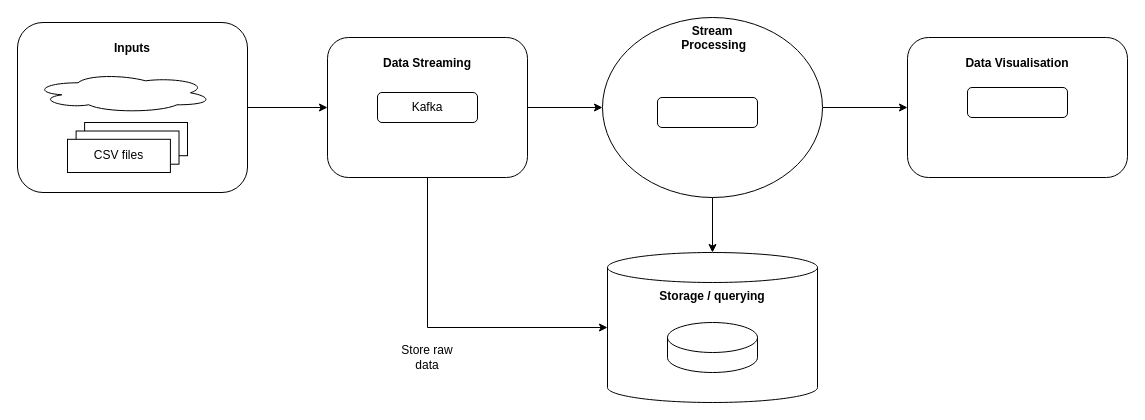
Image size: 1145x420. Some labels were removed from this diagram. The centre of each missing label's shape, as x and y in pixels:
"AlienVault" goes at point (122, 92).
"Cassandra" goes at point (712, 347).
"Flink" goes at point (707, 112).
"Grafana" goes at point (1017, 102).
